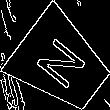N_SE: (30, 32, 92, 95)
